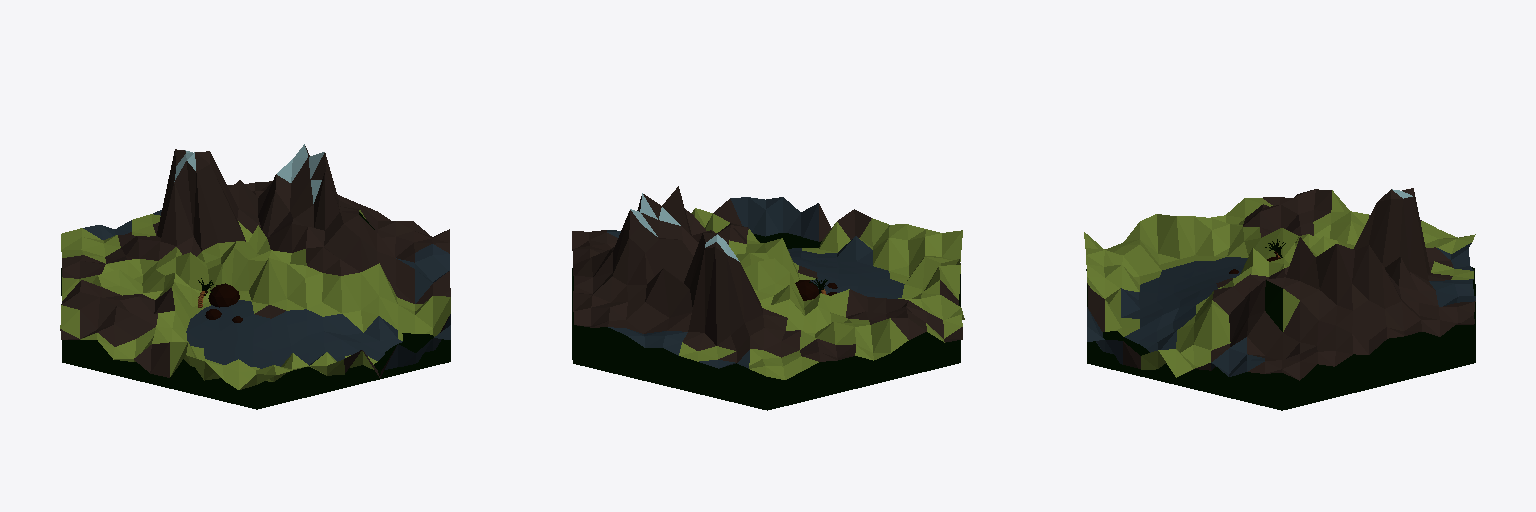
The model's file is mountain3.obj.
3 renders of one model, left to right at view 1: azimuth 30°, elevation 25°; view 2: azimuth 150°, elevation 25°; view 3: azimuth 270°, elevation 25°, orthographic.
Visible parts, largest first — view 1: Circle.001; view 2: Circle.001; view 3: Circle.001.
Boxes of the visible parts, x1=… form: Circle.001: x1=60, y1=144, x2=450, y2=409; Circle.001: x1=572, y1=186, x2=964, y2=410; Circle.001: x1=1084, y1=188, x2=1475, y2=410.
Size of the model in its own units: 2.01 by 0.6302 by 1.75.